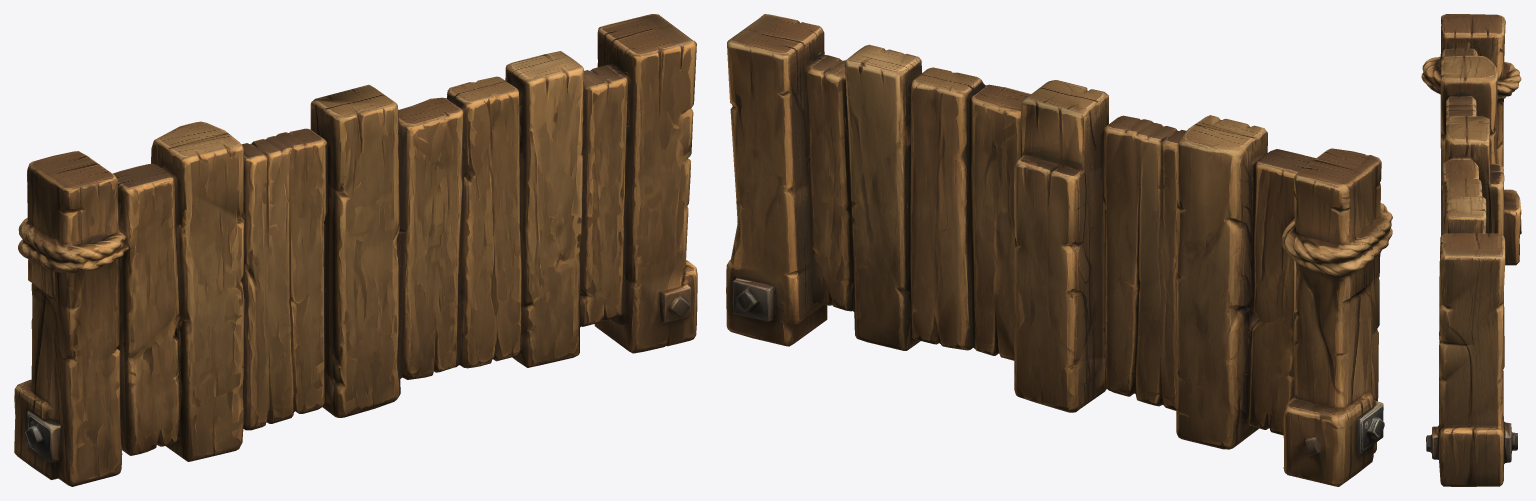
The model's file is LV1Fence.fbx.
The picture shows the model from 3 angles, left to right: view 1: azimuth 30°, elevation 25°; view 2: azimuth 150°, elevation 25°; view 3: azimuth 270°, elevation 25°; orthographic projection. The views are drawn at different scales.
Visible parts, largest first — view 1: Mesh_0; view 2: Mesh_0; view 3: Mesh_0.
Part boxes in pixels (x1,y1,x2,y2): Mesh_0: (14, 14, 697, 486); Mesh_0: (726, 14, 1392, 486); Mesh_0: (1421, 14, 1521, 486).
Size of the model in its own units: 191 by 86.4 by 32.92.
Materials: 1 (1 with a texture image).
